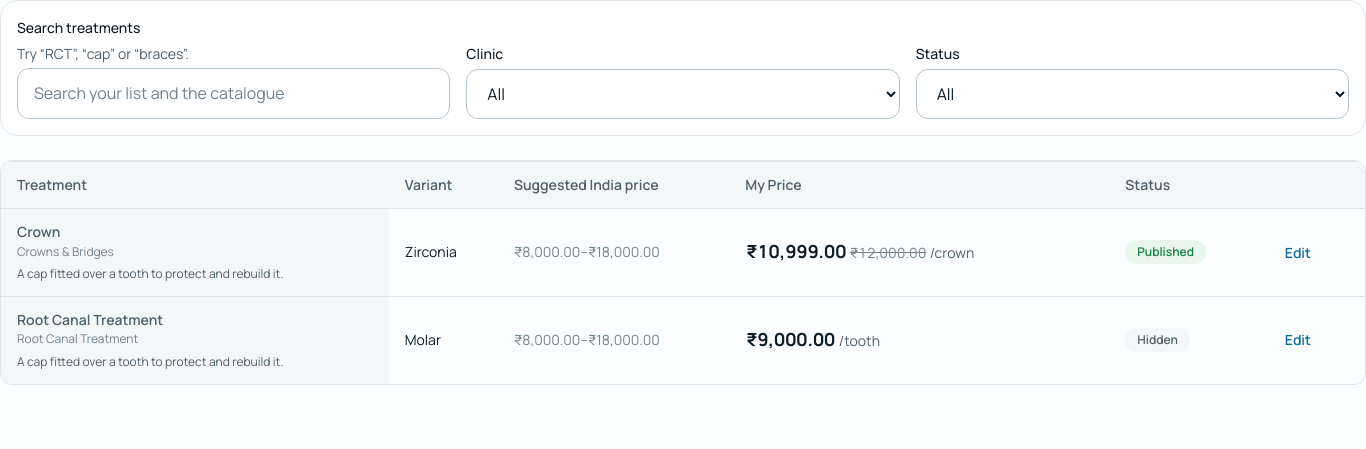
Test: search and filters › finds a treatment by the term a patient would type
In the search field labelled "Search treatments": point(234, 94) 17,68 -> 450,119, type "RCT"
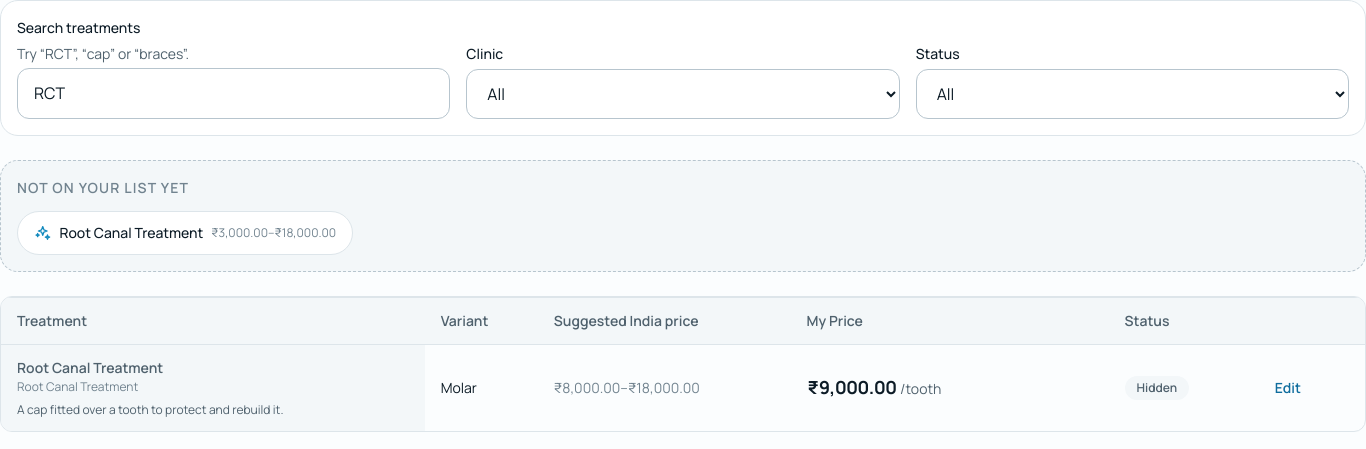
Check: the 1st text "Root Canal Treatment" is shown, box 17,358 -> 163,376
Check: the text "Crown" is gone
